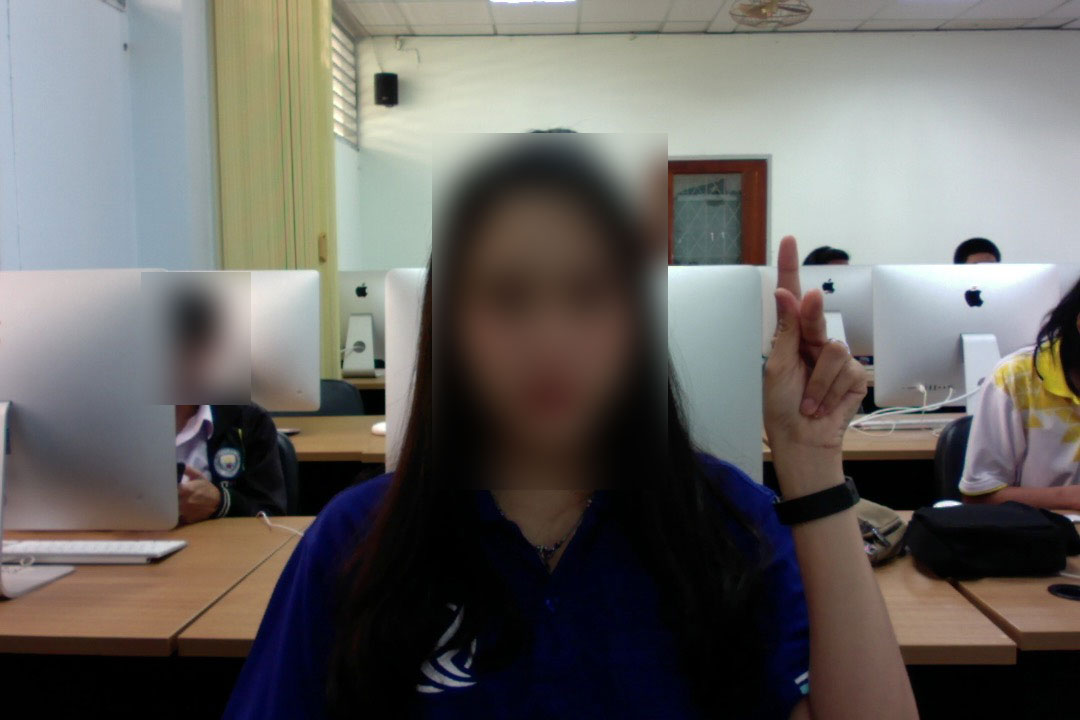ko: (747, 226, 881, 471)
